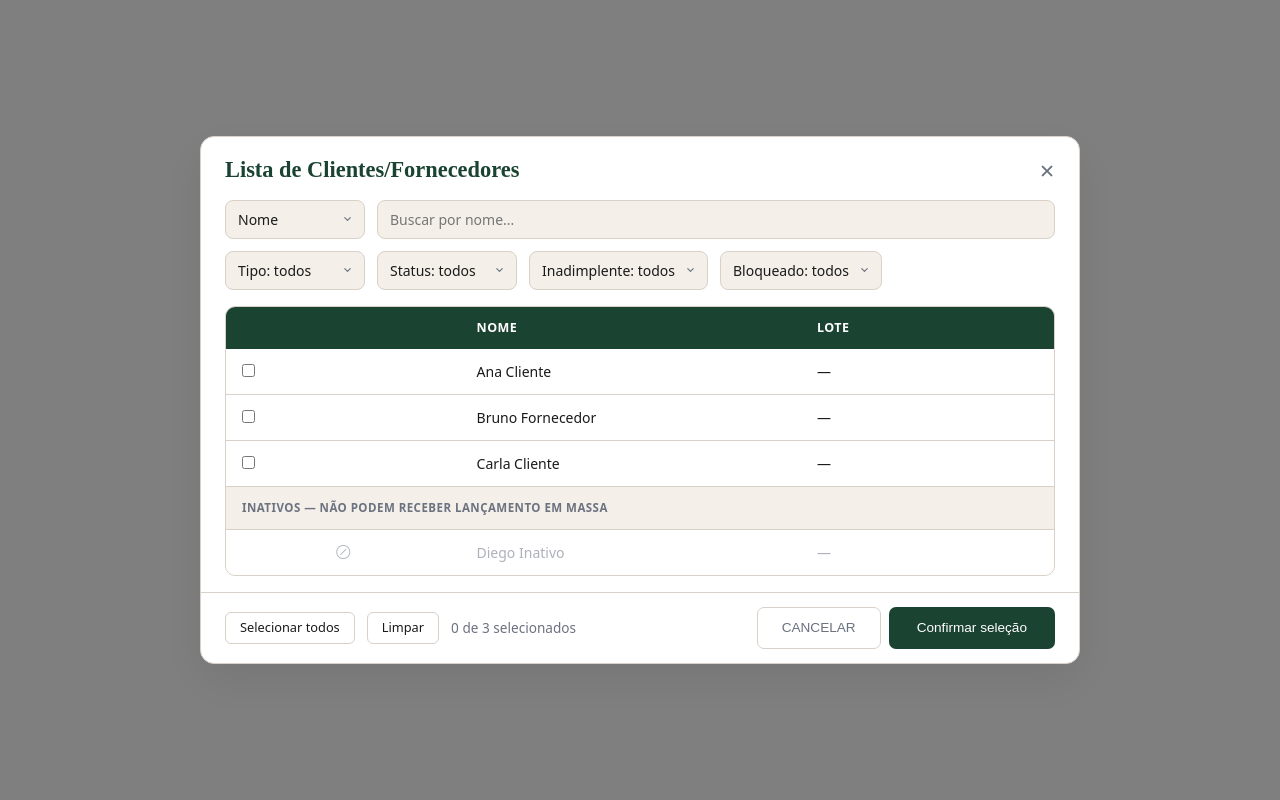
Test: MassaCliforSeletorModal — marcação › clicar na linha marca e desmarca o checkbox e atualiza o contador
Expected: the text "Ana Cliente" is shown, [460,350,801,395]
Expected: the text "0 de 3 selecionados" is shown, [451,618,576,638]
What coordinates should you click on to do the following:
click the text "Ana Cliente"
I would click on:
 (640, 372)
Its box is [226,350,1054,395].
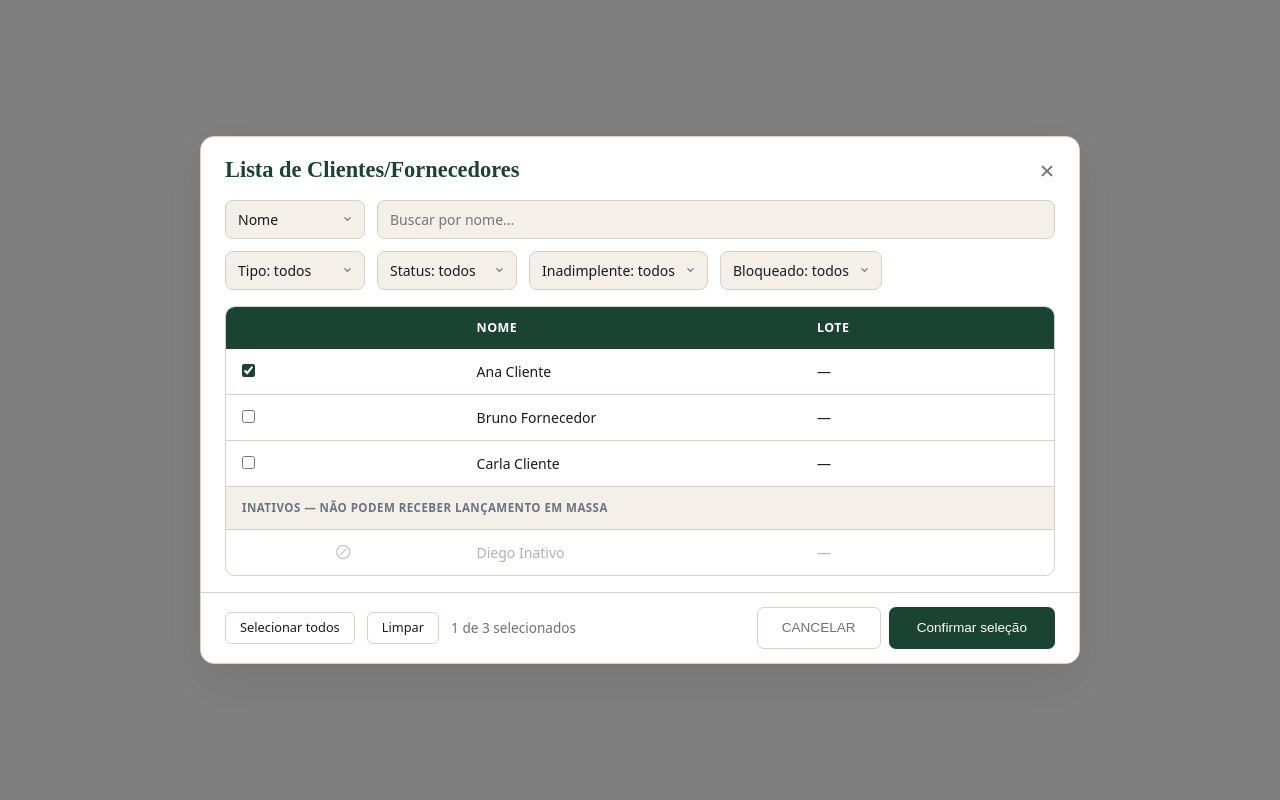
Now the checkbox in the row of "Ana Cliente" is checked, box [242,364,255,378]
Now the text "1 de 3 selecionados" is shown, box [451,618,576,638]
What coordinates should you click on to do the following:
click the text "Ana Cliente"
I would click on:
 (640, 372)
Its box is [226,350,1054,395].
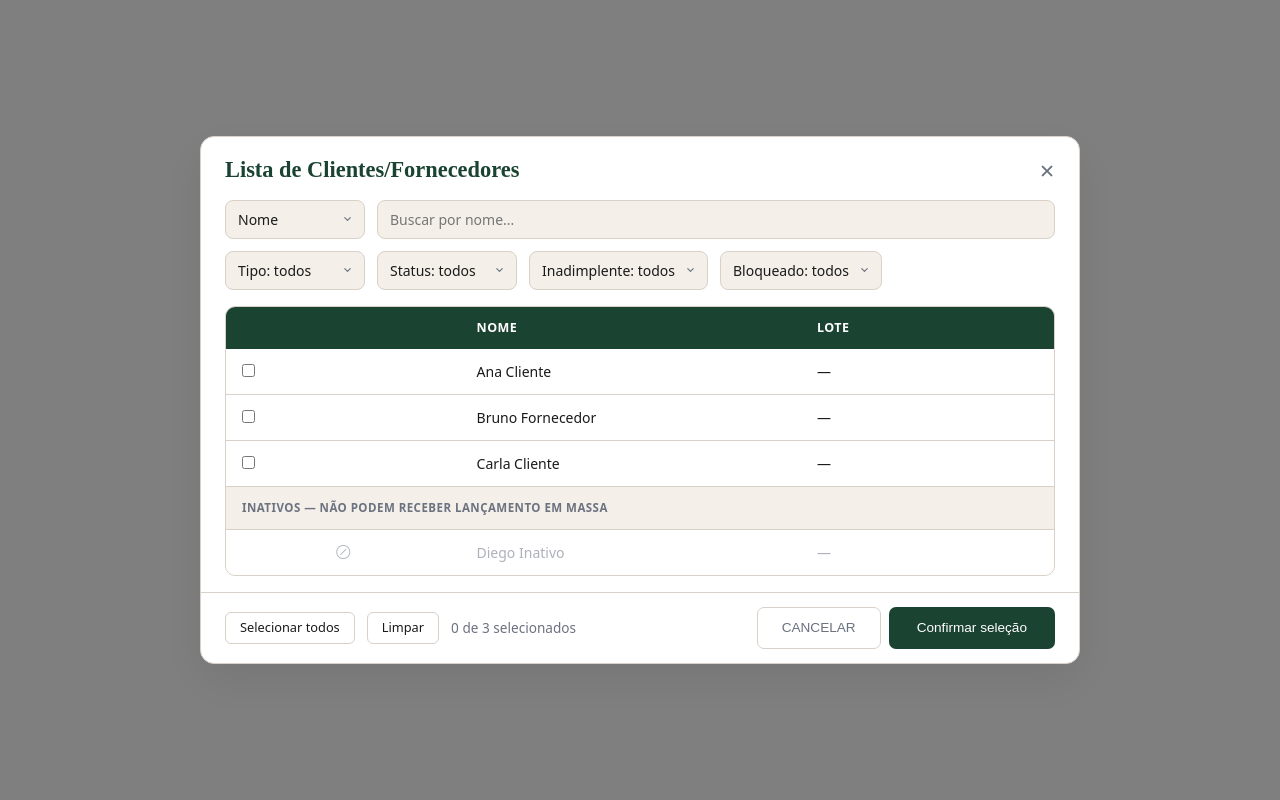
Now the checkbox in the row of "Ana Cliente" is not checked, box [242,364,255,378]
Now the text "0 de 3 selecionados" is shown, box [451,618,576,638]
